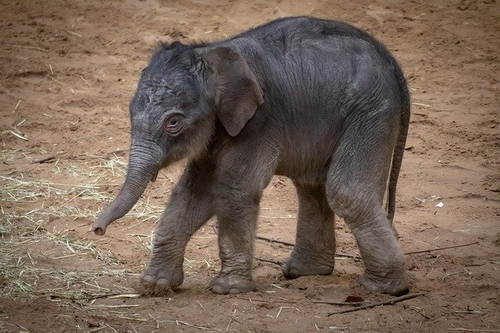elephant: (100, 16, 416, 294)
